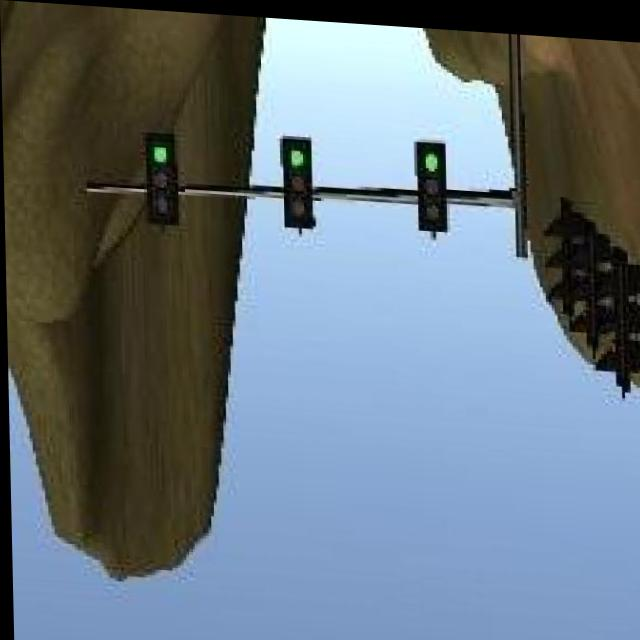green light: (142, 130, 181, 226), (282, 133, 312, 228), (416, 137, 446, 226)
